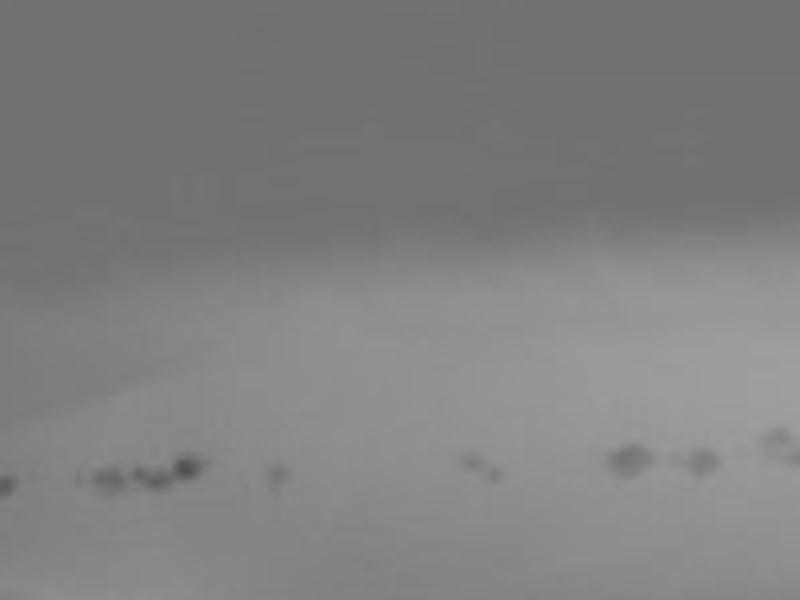defect: (605, 444, 651, 479), (90, 468, 123, 499), (688, 445, 721, 474), (169, 450, 199, 481), (761, 422, 793, 448), (769, 450, 800, 470), (144, 471, 167, 492), (457, 449, 480, 468), (265, 462, 286, 482), (484, 465, 504, 485), (127, 460, 146, 481), (69, 465, 86, 486), (1, 472, 15, 496)
